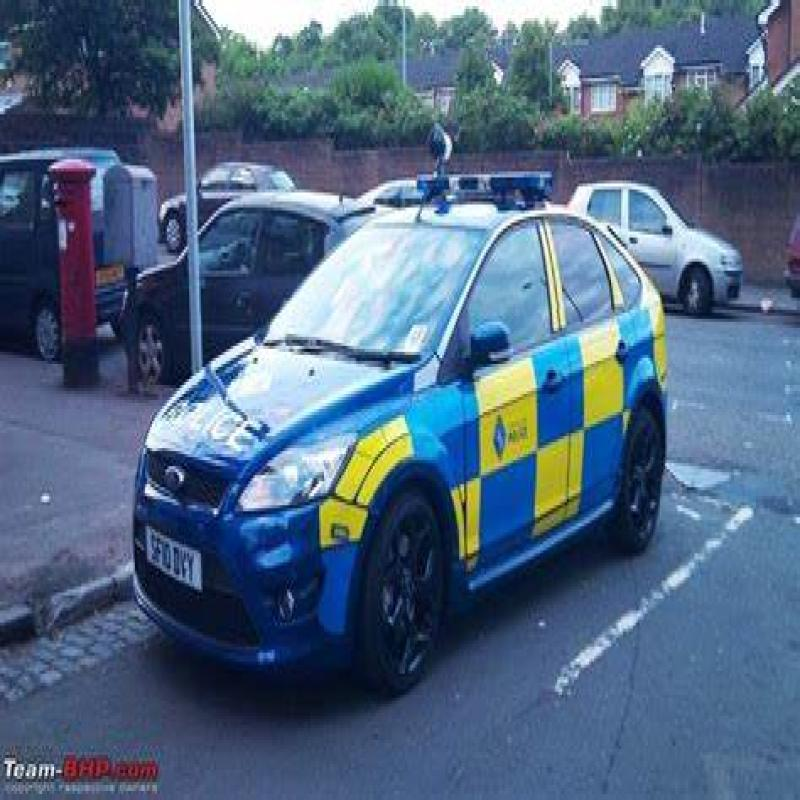AmbulanceSiren: (400, 157, 563, 210)
car: (93, 227, 669, 665)
